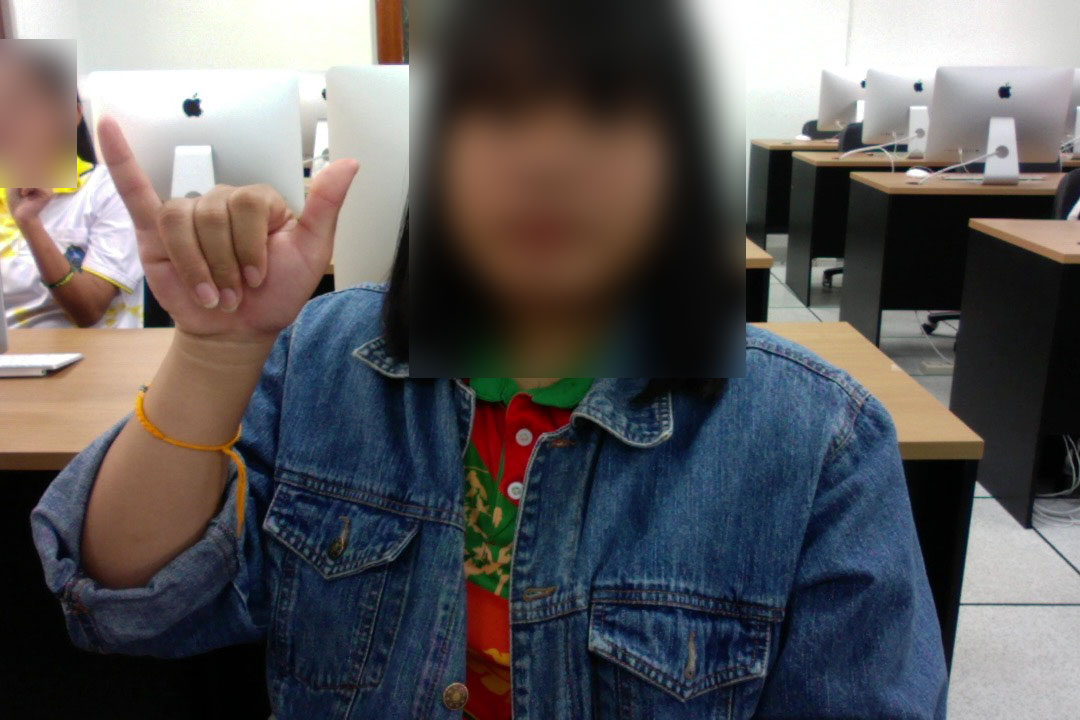yor: (90, 102, 367, 354)
